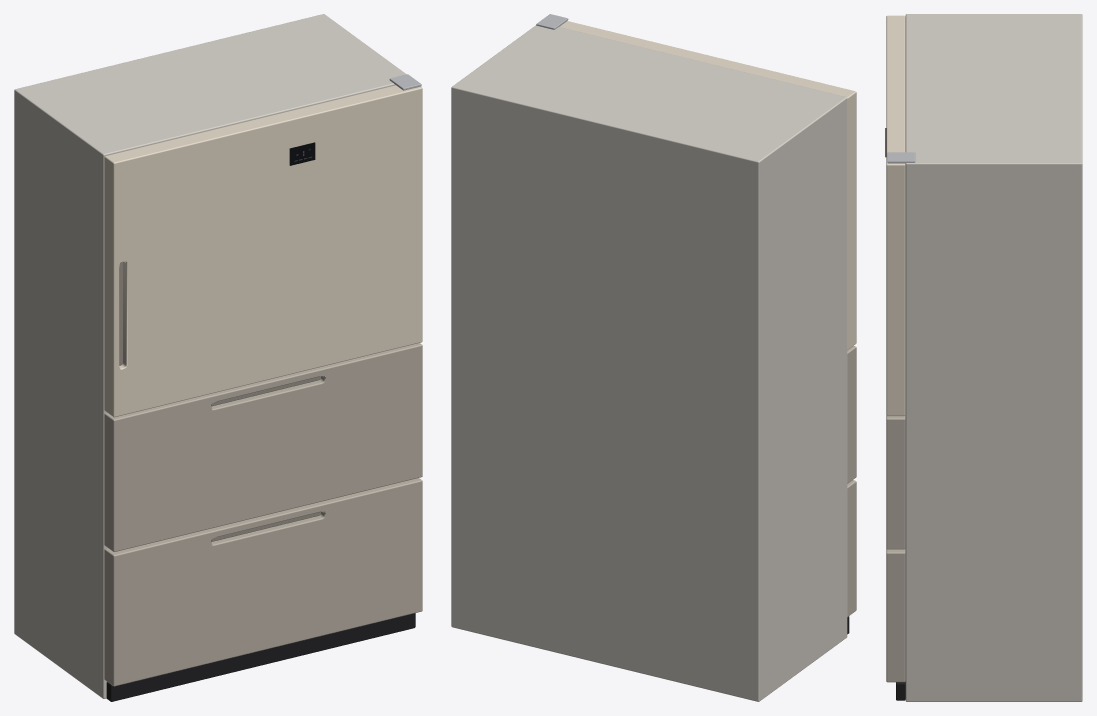
The model's file is kimchi_fridge.glb.
3 views of the same model, side by side, from view 1: azimuth 30°, elevation 25°; view 2: azimuth 150°, elevation 25°; view 3: azimuth 270°, elevation 25° (orthographic).
Visible parts, largest first — view 1: kimchi_fridge_fronts, kimchi_fridge_cabinet; view 2: kimchi_fridge_cabinet, kimchi_fridge_fronts; view 3: kimchi_fridge_cabinet, kimchi_fridge_fronts, kimchi_fridge_hinge.
Part boxes in pixels (<box>): kimchi_fridge_fronts: <box>104,85,422,686</box>; kimchi_fridge_cabinet: <box>14,14,415,701</box>; kimchi_fridge_cabinet: <box>451,25,849,701</box>; kimchi_fridge_fronts: <box>559,21,856,616</box>; kimchi_fridge_cabinet: <box>896,14,1082,701</box>; kimchi_fridge_fronts: <box>886,15,905,682</box>; kimchi_fridge_hinge: <box>887,152,915,163</box>.
Bounding box in the file's own units: 1.1 × 1.86 × 0.6142.
8 materials, 1 textured.
